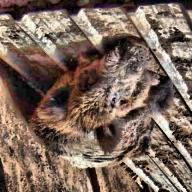boar: (20, 47, 181, 188)
